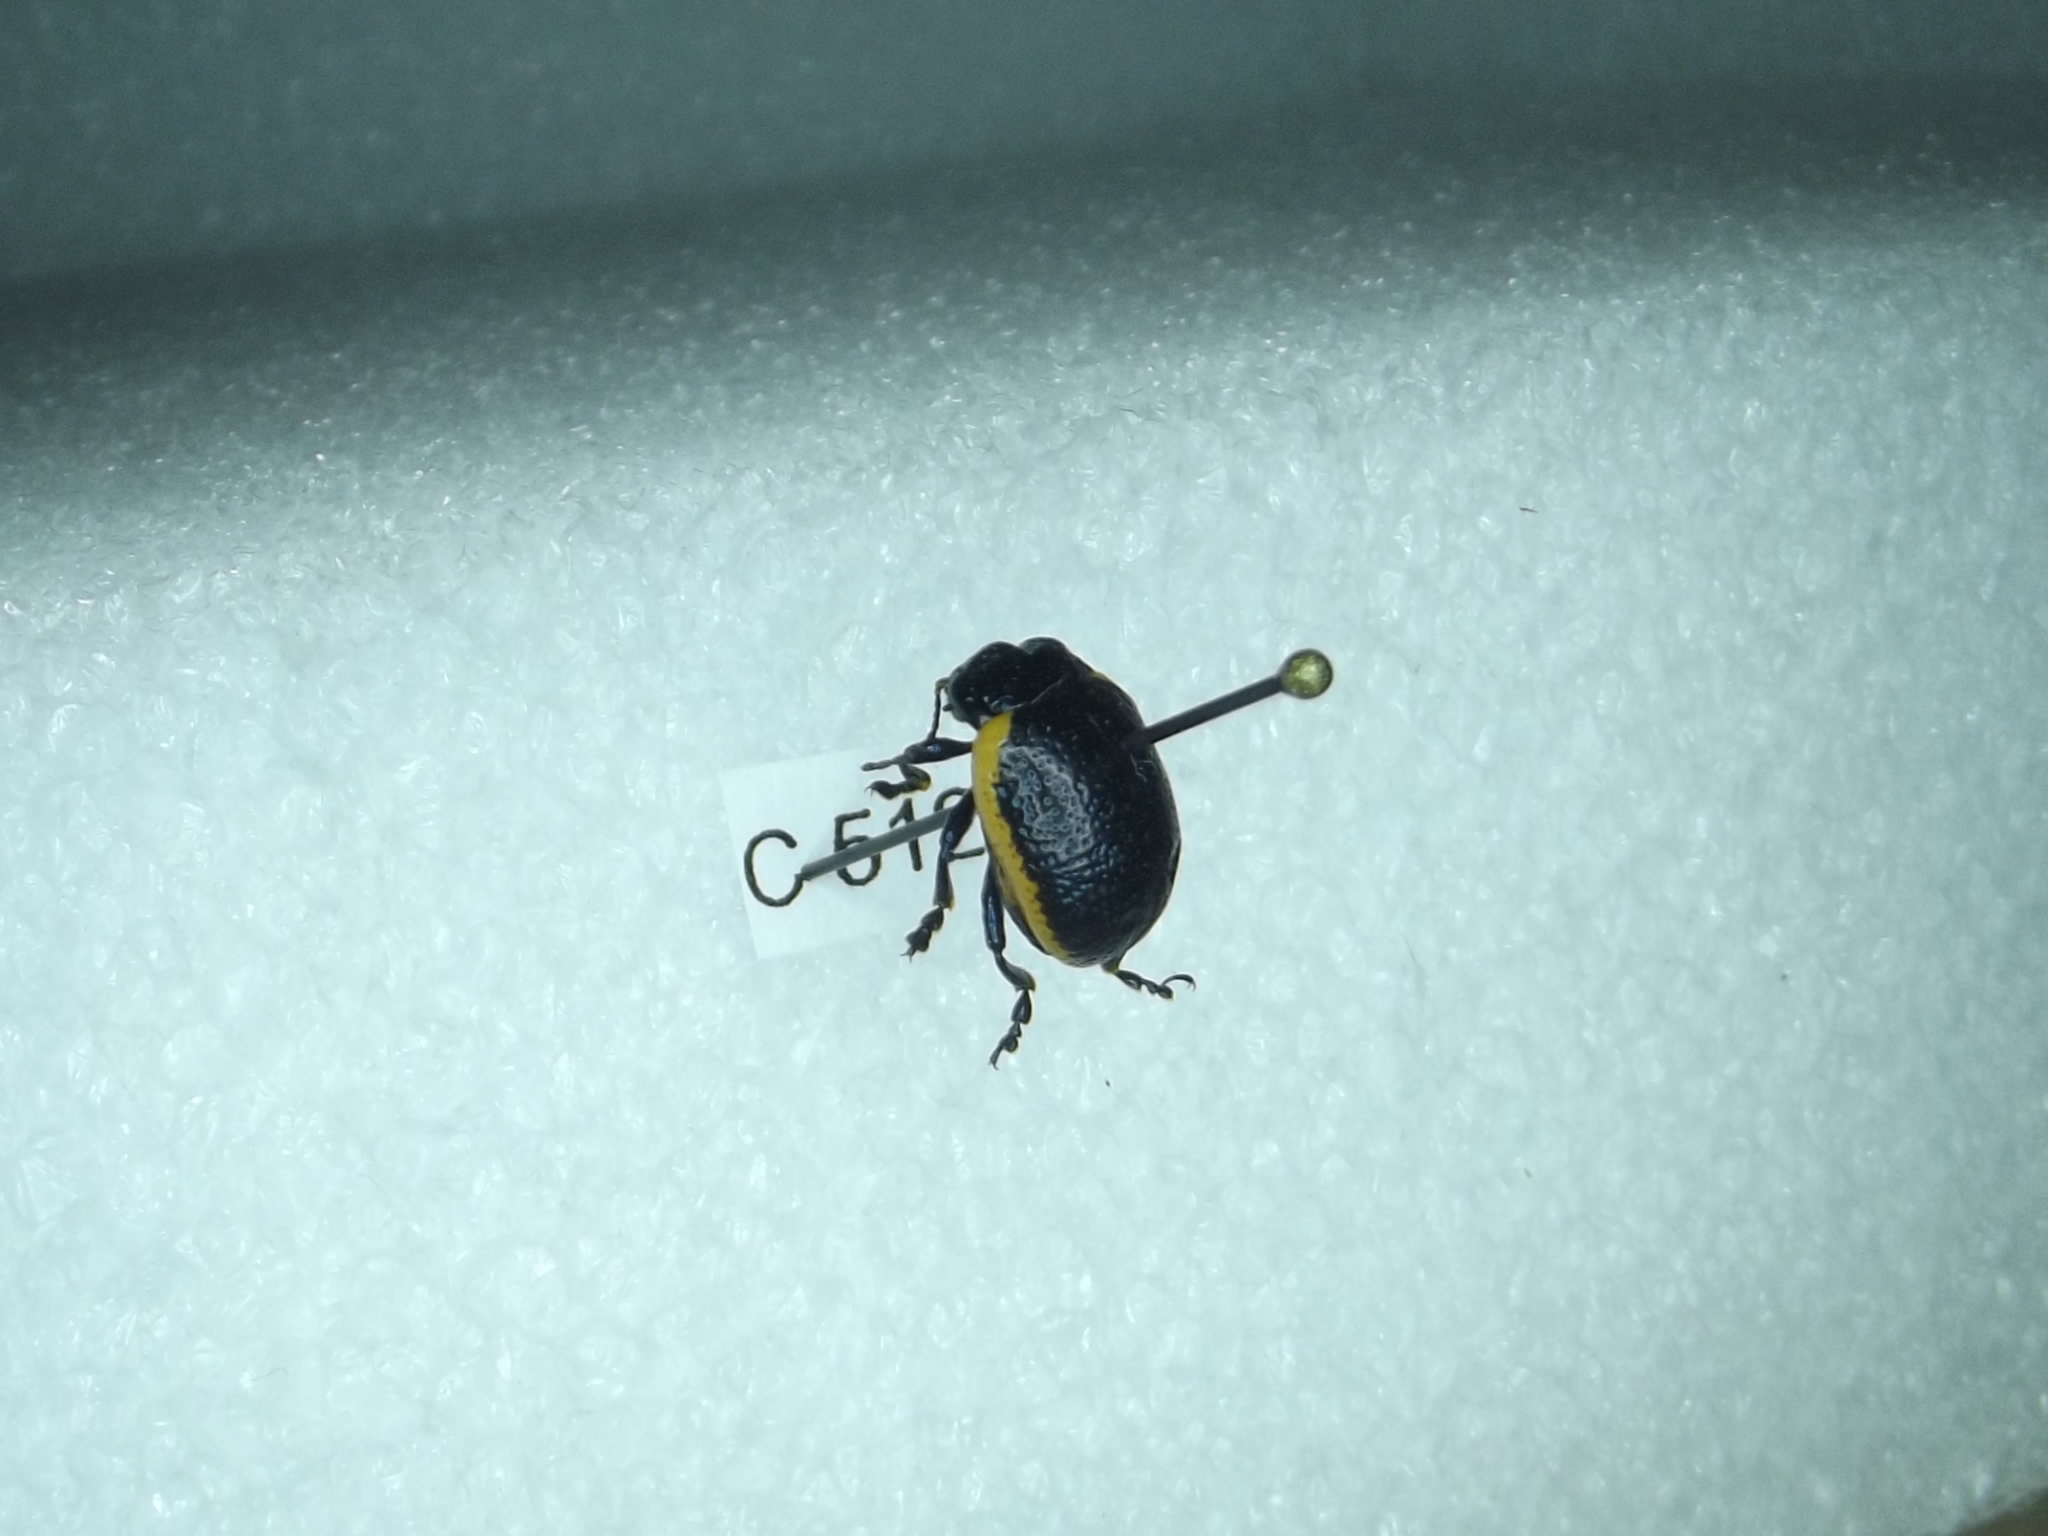Chrysolina_gypsophila: (856, 615, 1221, 1070)
